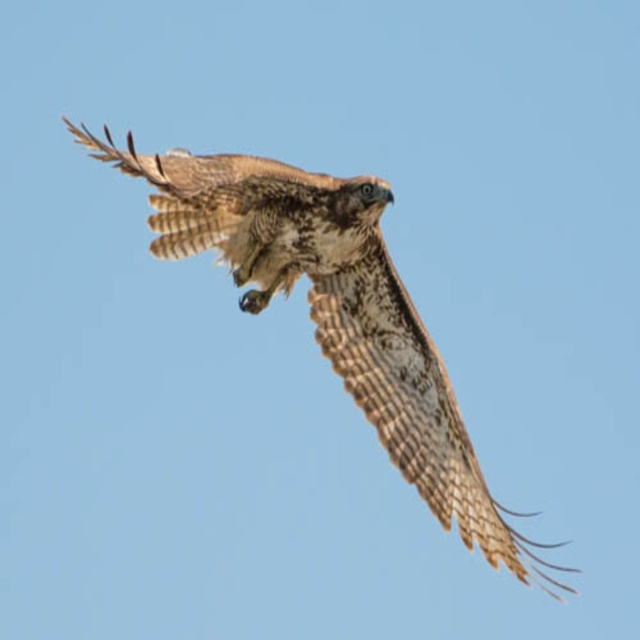Eagle: (56, 114, 581, 602)
